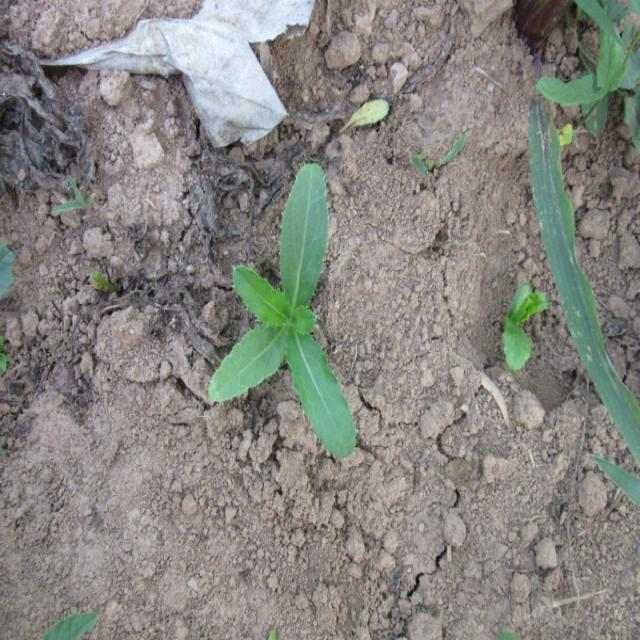cs: (209, 160, 357, 461)
